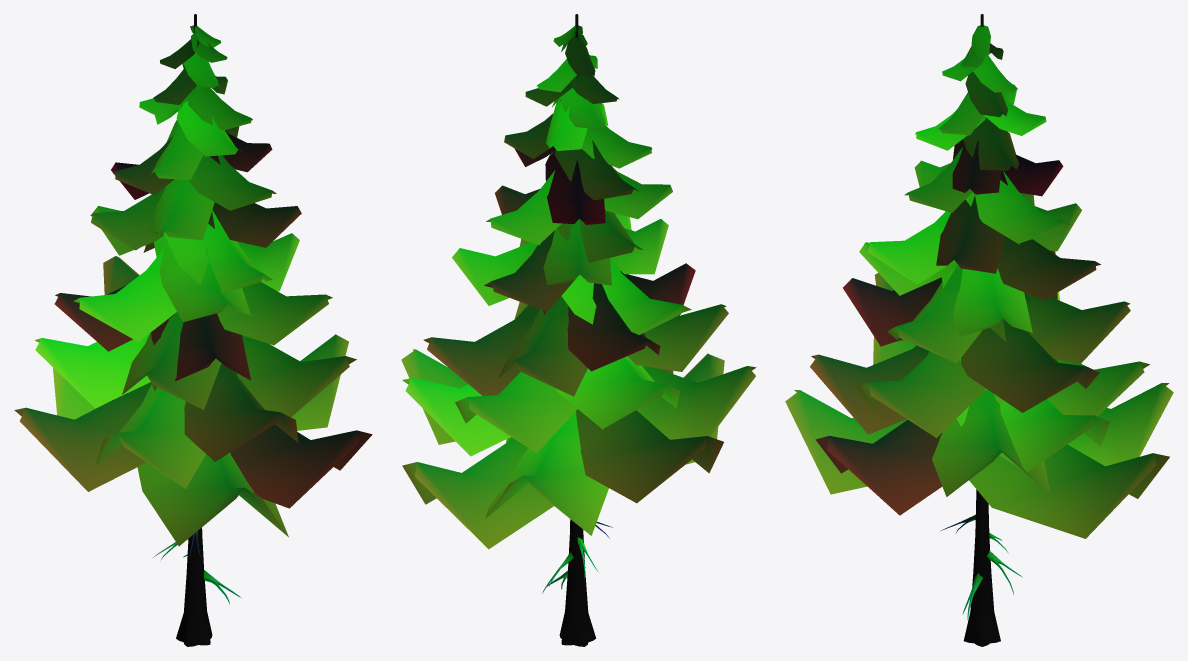
The model's file is M_Pine_6_6.fbx.
3 views of the same model, side by side, from view 1: azimuth 30°, elevation 25°; view 2: azimuth 150°, elevation 25°; view 3: azimuth 270°, elevation 25° (orthographic).
Visible parts, largest first — view 1: Tree_6; view 2: Tree_6; view 3: Tree_6.
Part boxes in pixels (x1=…): Tree_6: x1=14, y1=14, x2=372, y2=646; Tree_6: x1=401, y1=14, x2=756, y2=646; Tree_6: x1=785, y1=14, x2=1173, y2=646.
Size of the model in its own units: 1008 by 1877 by 1058.
